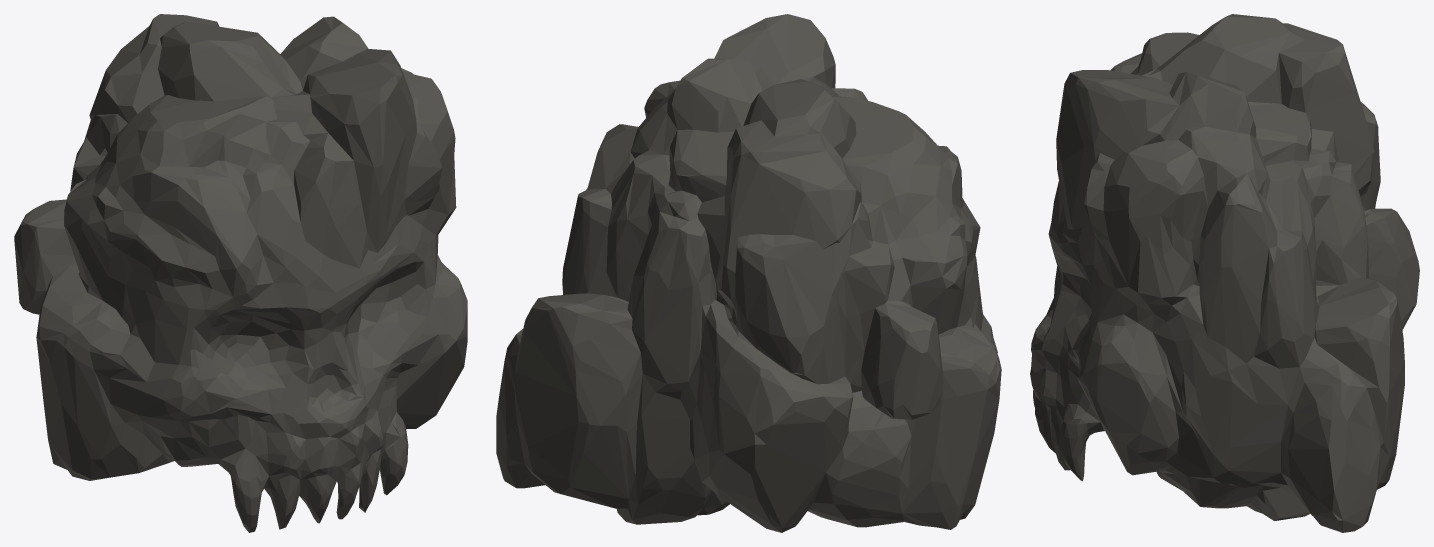
Rendered from SM_Env_Skull_Cave_01.fbx.
The picture shows the model from 3 angles, left to right: view 1: azimuth 30°, elevation 25°; view 2: azimuth 150°, elevation 25°; view 3: azimuth 270°, elevation 25°; orthographic projection. The views are drawn at different scales.
Visible parts, largest first — view 1: SM_Env_Skull_Cave_01; view 2: SM_Env_Skull_Cave_01; view 3: SM_Env_Skull_Cave_01.
Boxes of the visible parts, left/top/right/bottom form: SM_Env_Skull_Cave_01: left=14, top=14, right=467, bottom=532; SM_Env_Skull_Cave_01: left=496, top=14, right=1001, bottom=532; SM_Env_Skull_Cave_01: left=1030, top=14, right=1419, bottom=532.
Size of the model in its own units: 2870 by 2700 by 2254.
